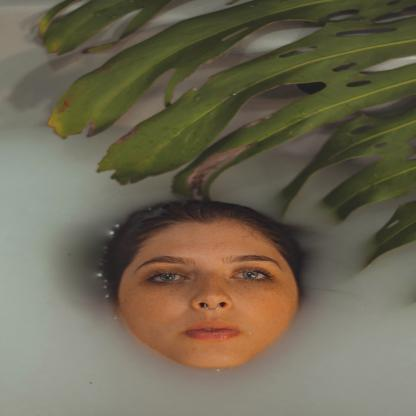Eye: (136, 265, 190, 289), (227, 263, 281, 285)
Mouth: (182, 314, 245, 344)
Nose: (188, 272, 236, 314)
